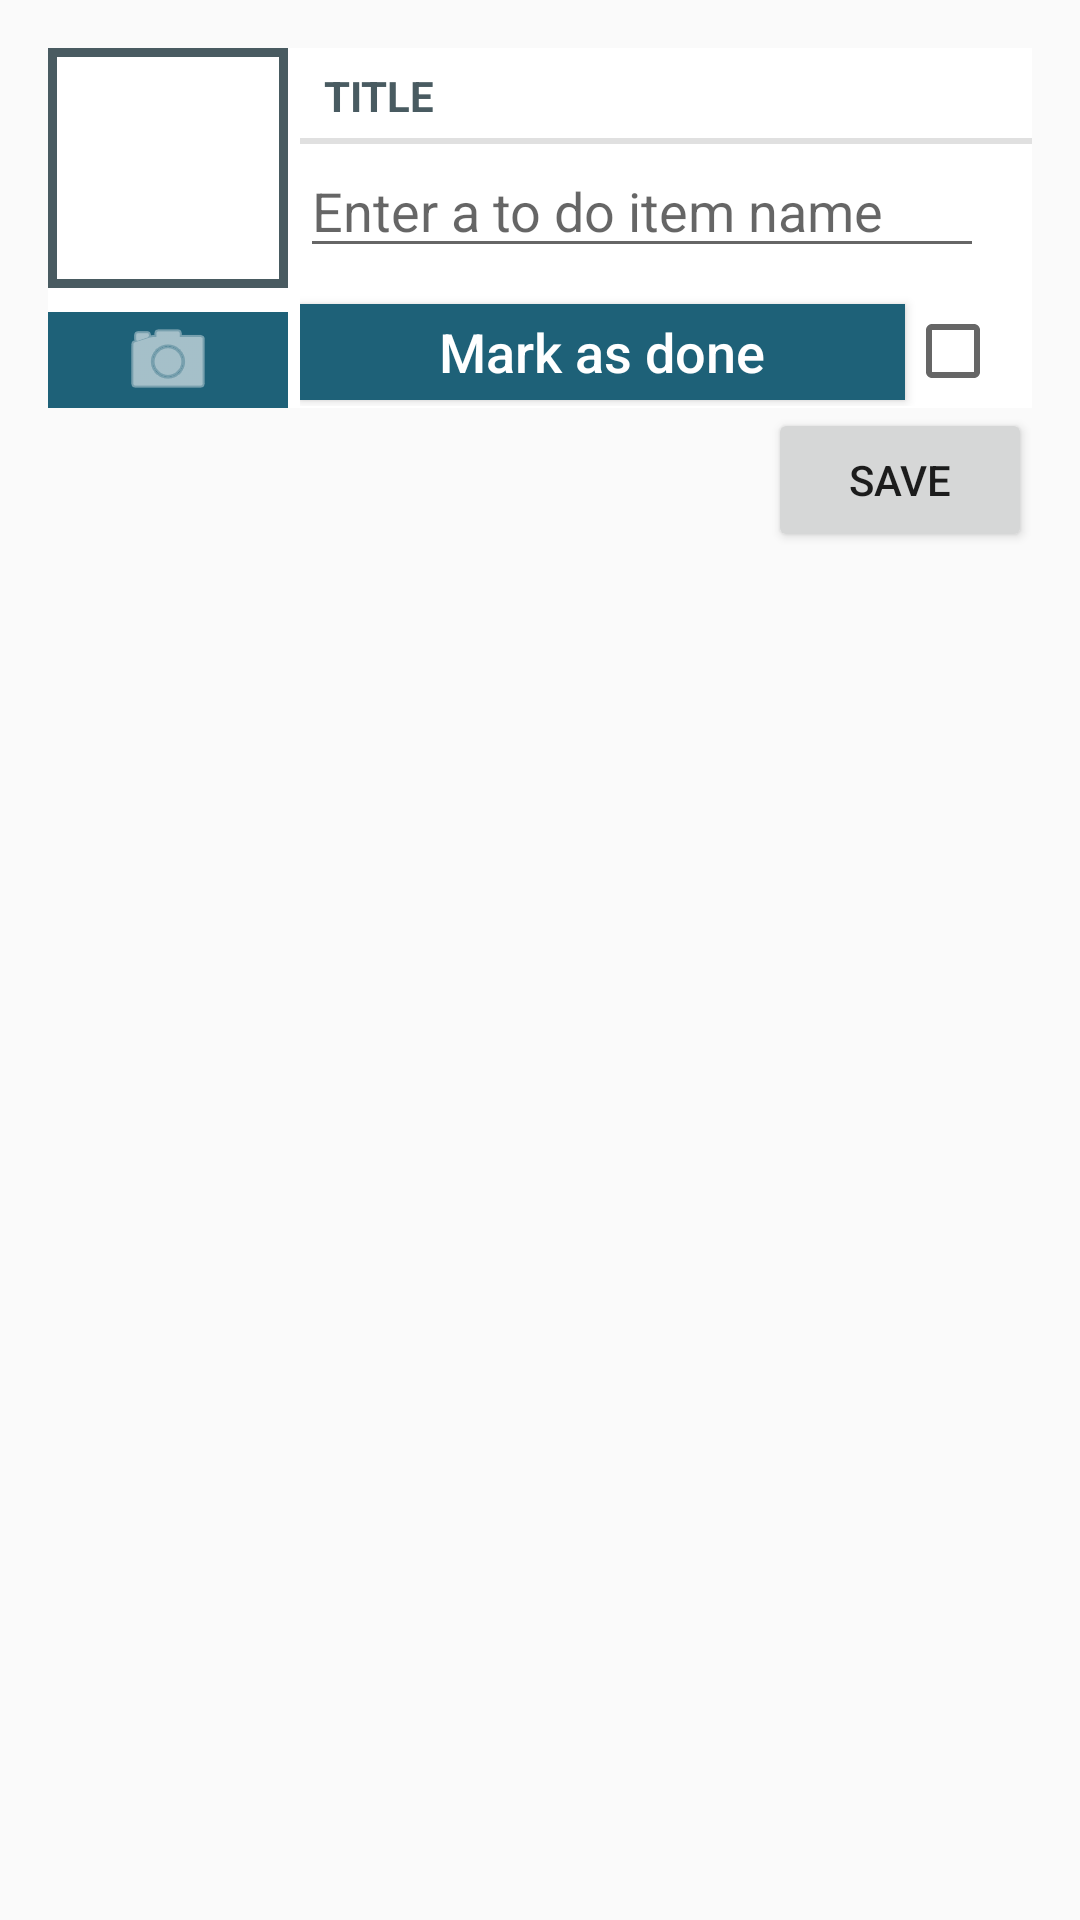

Named icons in this screenshot (1080 × 1920) and their centers, [x,y]:
camera: [168,360]
